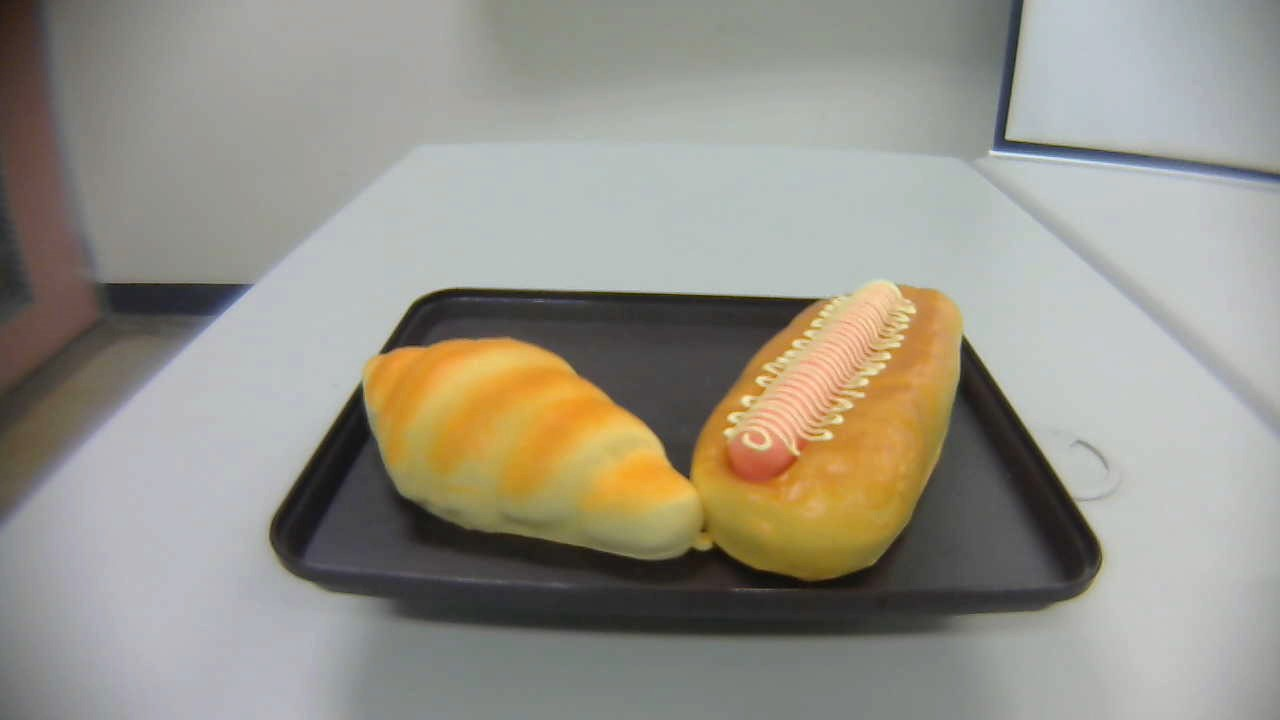croissant: (361, 337, 708, 564)
hot dog: (695, 280, 965, 579)
